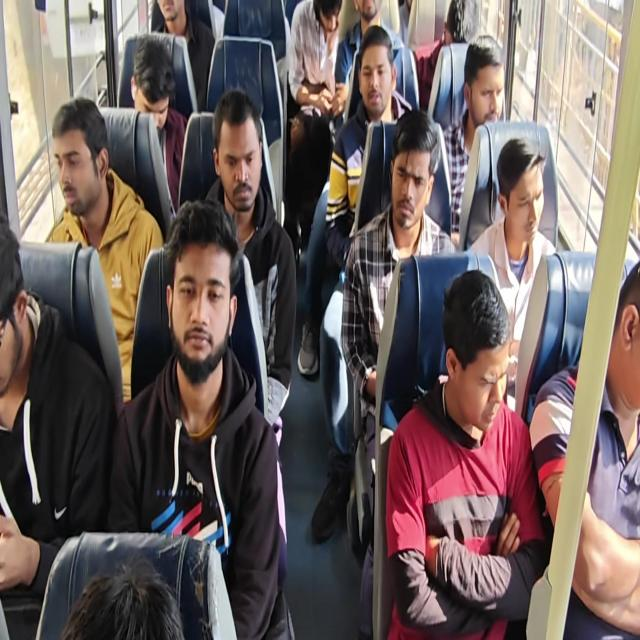person: (1, 1, 638, 638), (107, 198, 295, 638), (340, 108, 458, 637), (384, 268, 546, 638), (0, 216, 116, 638), (529, 258, 639, 638), (44, 96, 164, 403), (203, 87, 297, 447), (467, 137, 558, 411), (324, 25, 414, 272), (284, 0, 345, 253), (442, 34, 505, 240), (129, 36, 188, 214), (60, 555, 185, 639), (334, 0, 406, 120), (412, 0, 480, 114), (150, 0, 215, 112), (287, 0, 343, 121)
